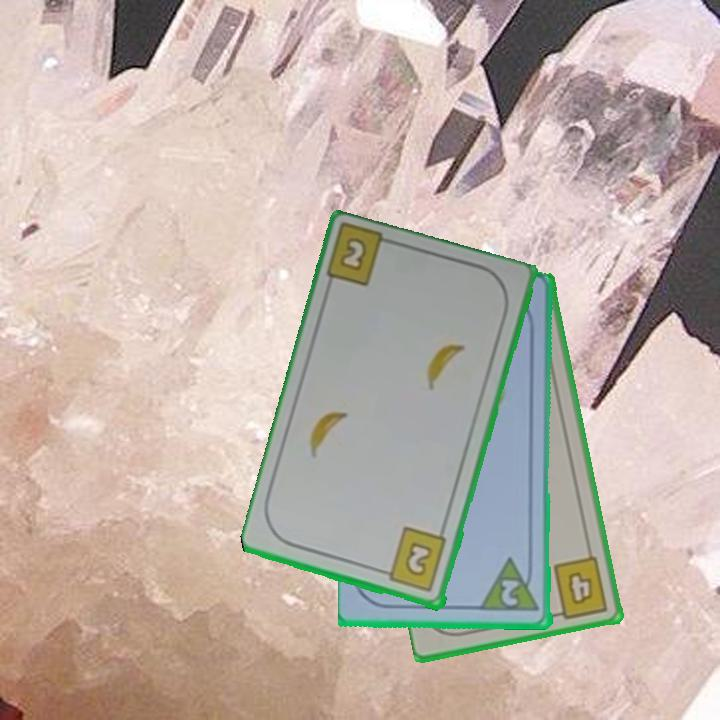2b: (377, 524, 450, 595), (336, 234, 370, 275)
2p: (479, 555, 543, 615)
4b: (549, 553, 611, 622)
